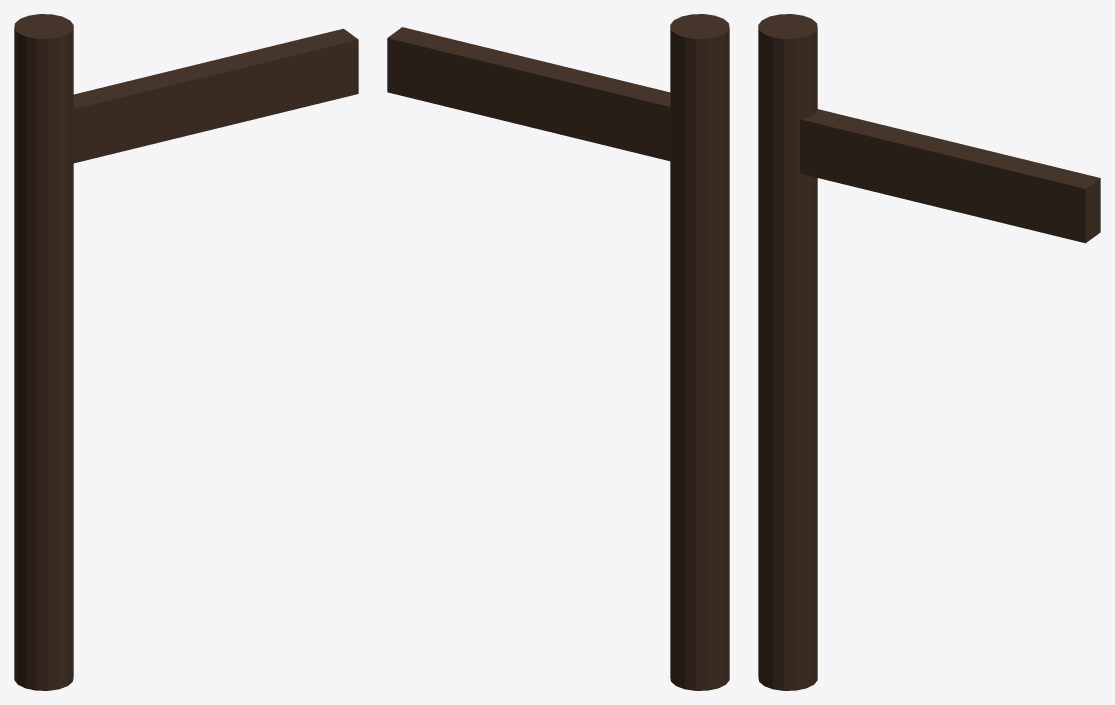
The model's file is Wooden_Post.fbx.
3 renders of one model, left to right at view 1: azimuth 30°, elevation 25°; view 2: azimuth 150°, elevation 25°; view 3: azimuth 330°, elevation 25°, orthographic.
Visible parts, largest first — view 1: Wooden Post; view 2: Wooden Post; view 3: Wooden Post.
Boxes of the visible parts, bbox=[...] form: Wooden Post: bbox=[14, 14, 358, 690]; Wooden Post: bbox=[387, 14, 729, 690]; Wooden Post: bbox=[758, 14, 1100, 690].
Bounding box in the file's own units: 3.2 × 6 × 0.5.
